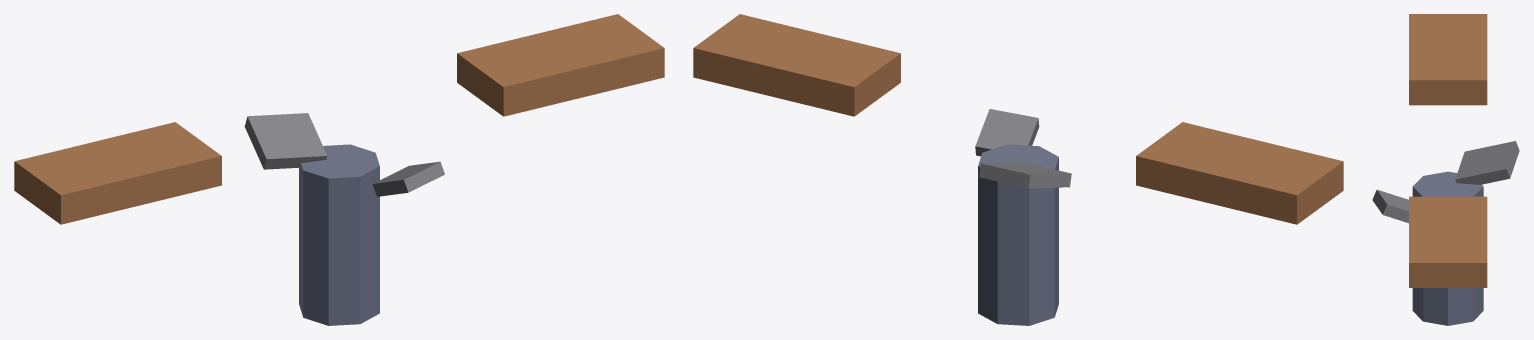
File: shattered-causeway.glb
3 views of the same model, side by side, from view 1: azimuth 30°, elevation 25°; view 2: azimuth 150°, elevation 25°; view 3: azimuth 270°, elevation 25° (orthographic). The views are drawn at different scales.
Parts seen in each view (by area): view 1: causeway-support-pillar, causeway-left-span, causeway-right-span, causeway-collapse-shard-0, causeway-collapse-shard-1; view 2: causeway-left-span, causeway-right-span, causeway-support-pillar, causeway-collapse-shard-1, causeway-collapse-shard-0; view 3: causeway-left-span, causeway-right-span, causeway-support-pillar, causeway-collapse-shard-0, causeway-collapse-shard-1.
Boxes of the visible parts, left/top/right/bottom form: causeway-support-pillar: left=299, top=144, right=379, bottom=325; causeway-left-span: left=14, top=122, right=221, bottom=224; causeway-right-span: left=457, top=14, right=664, bottom=116; causeway-collapse-shard-0: left=244, top=113, right=327, bottom=169; causeway-collapse-shard-1: left=372, top=161, right=444, bottom=196; causeway-left-span: left=1136, top=122, right=1343, bottom=224; causeway-right-span: left=693, top=14, right=900, bottom=116; causeway-support-pillar: left=978, top=144, right=1058, bottom=325; causeway-collapse-shard-1: left=975, top=109, right=1039, bottom=156; causeway-collapse-shard-0: left=979, top=162, right=1071, bottom=188; causeway-left-span: left=1409, top=14, right=1487, bottom=105; causeway-right-span: left=1409, top=196, right=1487, bottom=287; causeway-support-pillar: left=1412, top=171, right=1483, bottom=325; causeway-collapse-shard-0: left=1455, top=141, right=1519, bottom=184; causeway-collapse-shard-1: left=1372, top=189, right=1408, bottom=223.
Size of the model in its own units: 3 by 0.97 by 0.7503.
